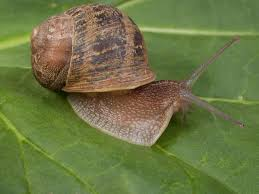snail: (21, 7, 248, 147)
